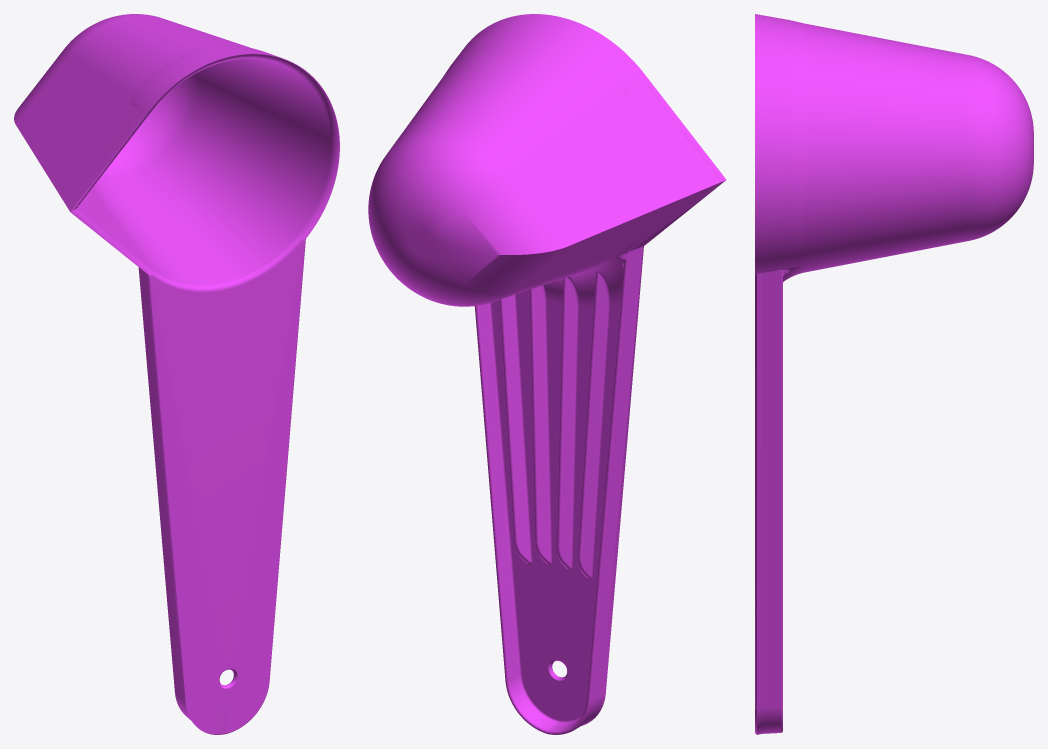
File: MeasuringSpoon.fbx
3 views of the same model, side by side, from view 1: azimuth 30°, elevation 25°; view 2: azimuth 150°, elevation 25°; view 3: azimuth 270°, elevation 25° (orthographic). The views are drawn at different scales.
Visible parts, largest first — view 1: Object_2; view 2: Object_2; view 3: Object_2.
Boxes of the visible parts, <box> form: Object_2: <box>14,14,339,734</box>; Object_2: <box>368,14,726,734</box>; Object_2: <box>755,14,1033,734</box>.
Size of the model in its own units: 60.36 by 145 by 52.
